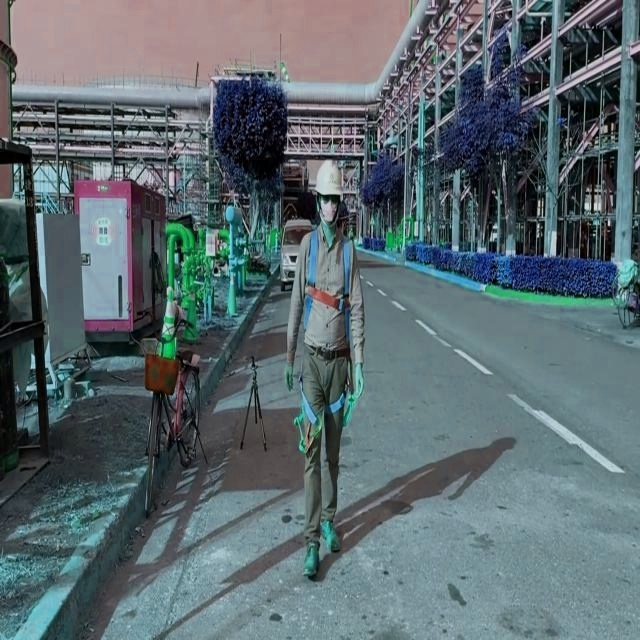safety belt: (293, 231, 365, 421)
